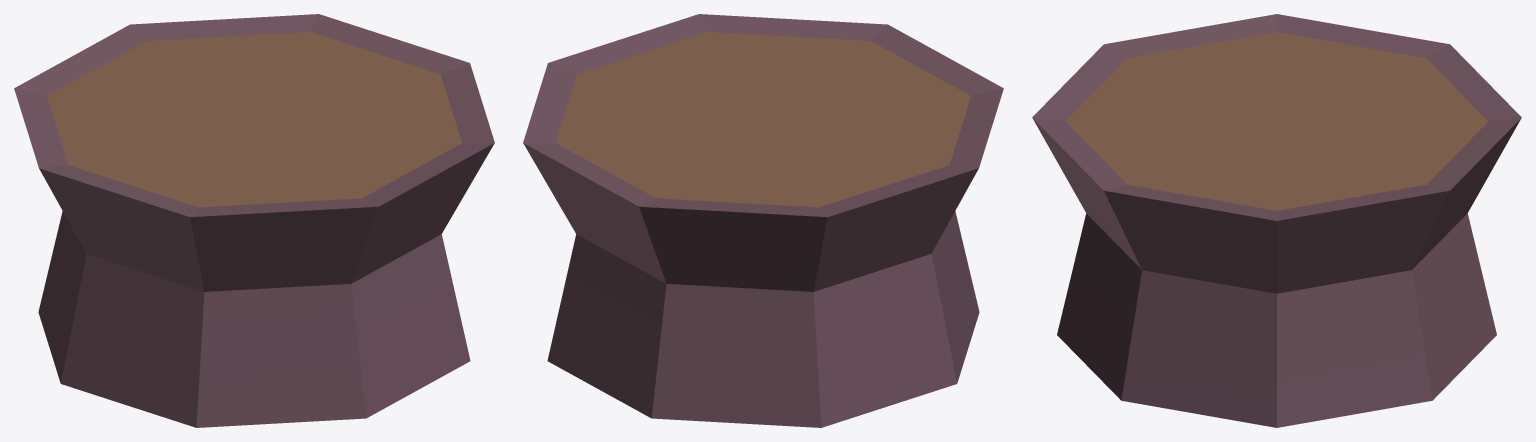
Rendered from BancoTronco.fbx.
3 views of the same model, side by side, from view 1: azimuth 30°, elevation 25°; view 2: azimuth 150°, elevation 25°; view 3: azimuth 270°, elevation 25° (orthographic).
Visible parts, largest first — view 1: Cylinder.033; view 2: Cylinder.033; view 3: Cylinder.033.
Part boxes in pixels (left/top/right/bottom): Cylinder.033: left=14, top=14, right=494, bottom=427; Cylinder.033: left=523, top=14, right=1003, bottom=427; Cylinder.033: left=1032, top=14, right=1521, bottom=427.
Size of the model in its own units: 60.43 by 29.61 by 60.43.
